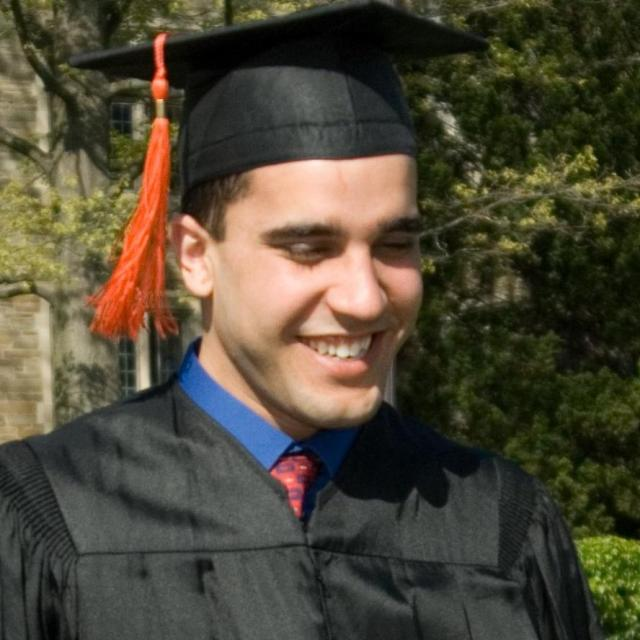no-glass: (274, 238, 418, 264)
